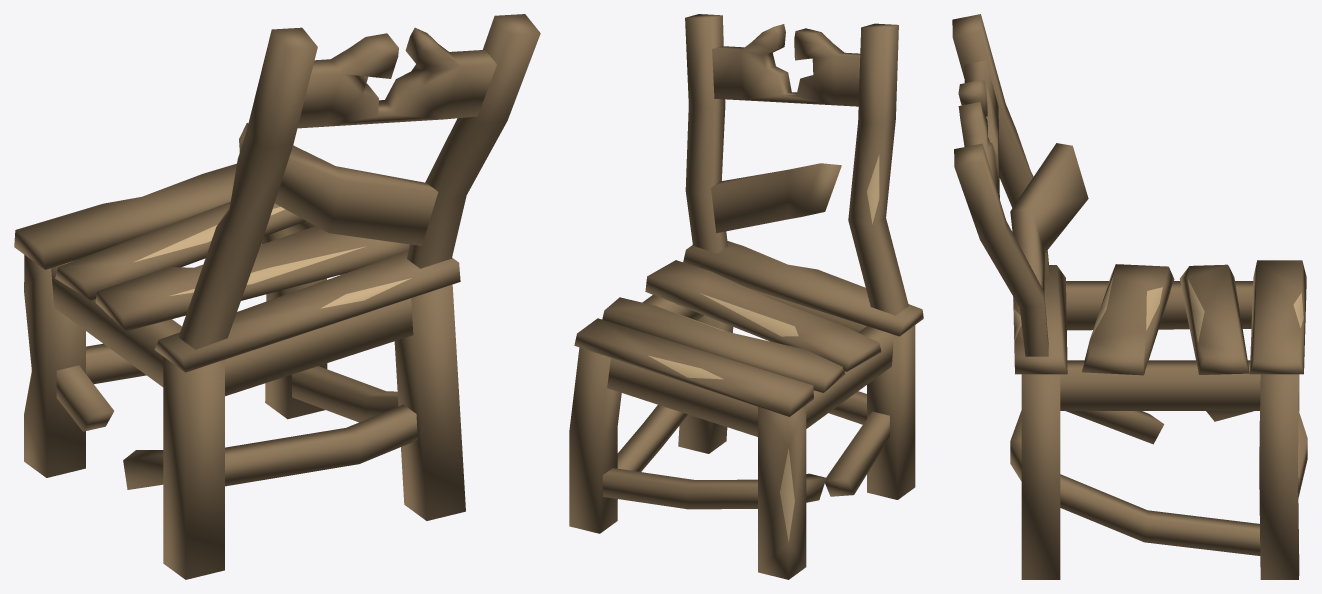
The model's file is rpgpp_av_chair_04a.gltf.
3 renders of one model, left to right at view 1: azimuth 30°, elevation 25°; view 2: azimuth 150°, elevation 25°; view 3: azimuth 270°, elevation 25°, orthographic. The views are drawn at different scales.
Parts seen in each view (by area): view 1: rpgpp_av_chair_04a; view 2: rpgpp_av_chair_04a; view 3: rpgpp_av_chair_04a.
Boxes of the visible parts, <box> form: rpgpp_av_chair_04a: <box>14,14,540,579</box>; rpgpp_av_chair_04a: <box>569,14,923,579</box>; rpgpp_av_chair_04a: <box>952,14,1307,579</box>.
Size of the model in its own units: 0.0054 by 0.00876 by 0.00594.
1 material, 1 textured.
